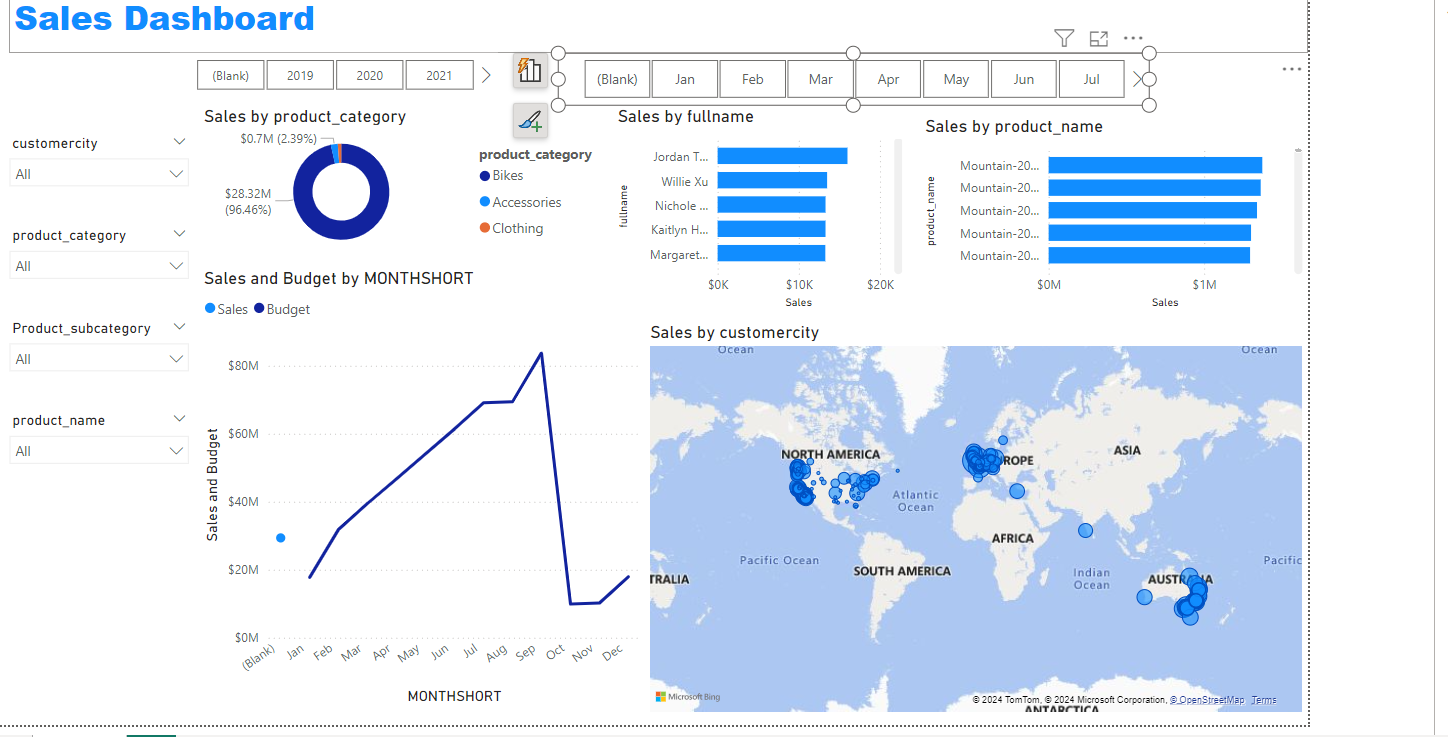

The dashboard page shown, as its layout file describes it:
{"tool":"powerbi","page":{"name":"Page 1","canvas":[1280,720],"ordinal":0},"visuals":[{"type":"textbox","box":[9.8,0,1270.5,62.4],"z":0},{"type":"donutChart","fields":{"Category":["Dim_productdetails.product_category"],"Y":["FACT_internetsales.Sales"]},"box":[195.7,113.7,404.8,150.4],"z":1},{"type":"slicer","fields":{"Values":["Dim_productdetails.product_category"]},"box":[0,227.4,195.7,90.5],"z":2},{"type":"slicer","fields":{"Values":["Dim_productdetails.Product_subcategory"]},"box":[0,317.9,195.7,90.5],"z":5},{"type":"slicer","fields":{"Values":["Dim_productdetails.product_name"]},"box":[0,408.4,195.7,90.5],"z":6},{"type":"slicer","fields":{"Values":["Dim_CustomerTable.customercity"]},"box":[0,137,195.7,90.5],"z":7},{"type":"slicer","fields":{"Values":["ETL_datefile.YEAR"]},"box":[167.5,62.4,320.4,42.8],"z":8},{"type":"slicer","fields":{"Values":["ETL_datefile.MONTHSHORT"]},"box":[546.6,62.4,578.4,51.4],"z":9},{"type":"lineChart","fields":{"Category":["ETL_datefile.MONTHSHORT"],"Y":["FACT_internetsales.Sales","FACT_internetsales.Budget"]},"box":[195.7,272.7,436.6,431.7],"z":10},{"type":"barChart","fields":{"Category":["Dim_CustomerTable.fullname"],"Y":["FACT_internetsales.Sales"]},"box":[600.4,113.7,288.6,204.2],"z":11},{"type":"barChart","fields":{"Category":["Dim_productdetails.product_name"],"Y":["FACT_internetsales.Sales"]},"box":[901.2,123.5,379.1,194.4],"z":12},{"type":"map","fields":{"Category":["Dim_CustomerTable.customercity"],"Size":["FACT_internetsales.Sales"]},"box":[632.2,325.6,647.8,386.7],"z":13}]}

Visuals, with their boxes on the page's 1280x720 design canvas (x1, y1, x2, y2). These are canvas units, not pixel positions in the 1448x737 screenshot, which may show the page scaled, cropped or inside an application window:
textbox: [left=10, top=0, right=1280, bottom=62]
donutChart - Dim_productdetails.product_category x FACT_internetsales.Sales: [left=196, top=114, right=600, bottom=264]
slicer - Dim_productdetails.product_category: [left=0, top=227, right=196, bottom=318]
slicer - Dim_productdetails.Product_subcategory: [left=0, top=318, right=196, bottom=408]
slicer - Dim_productdetails.product_name: [left=0, top=408, right=196, bottom=499]
slicer - Dim_CustomerTable.customercity: [left=0, top=137, right=196, bottom=228]
slicer - ETL_datefile.YEAR: [left=168, top=62, right=488, bottom=105]
slicer - ETL_datefile.MONTHSHORT: [left=547, top=62, right=1125, bottom=114]
lineChart - ETL_datefile.MONTHSHORT x FACT_internetsales.Sales: [left=196, top=273, right=632, bottom=704]
barChart - Dim_CustomerTable.fullname x FACT_internetsales.Sales: [left=600, top=114, right=889, bottom=318]
barChart - Dim_productdetails.product_name x FACT_internetsales.Sales: [left=901, top=124, right=1280, bottom=318]
map - Dim_CustomerTable.customercity x FACT_internetsales.Sales: [left=632, top=326, right=1280, bottom=712]
